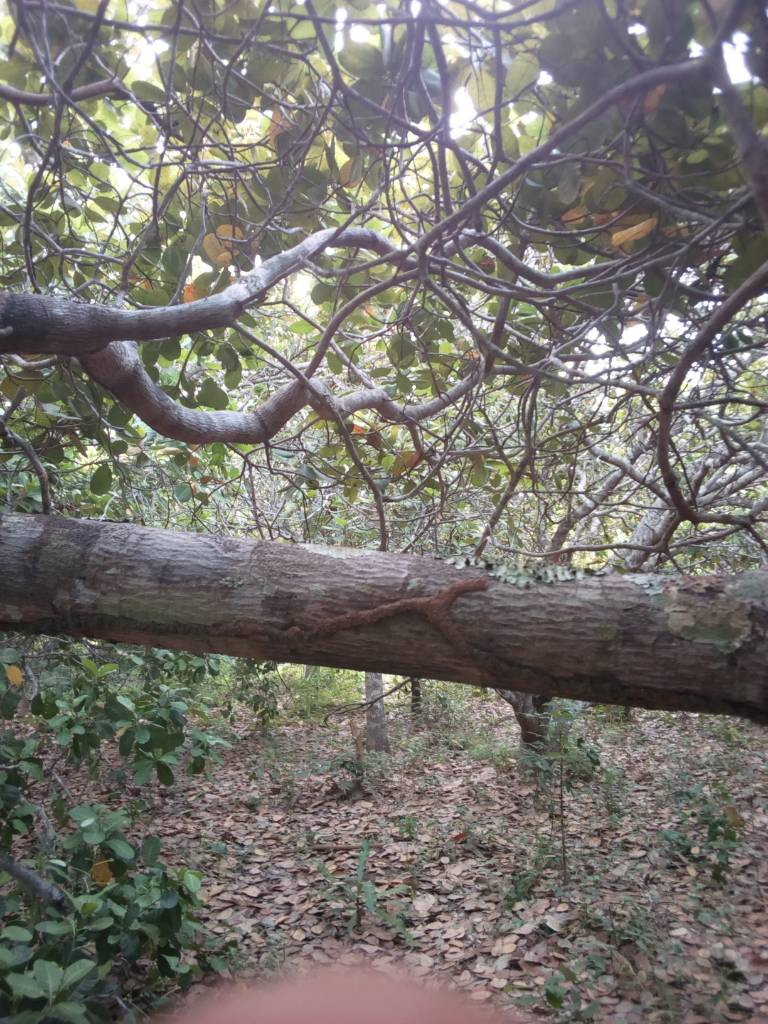Termites: (47, 577, 493, 646)
